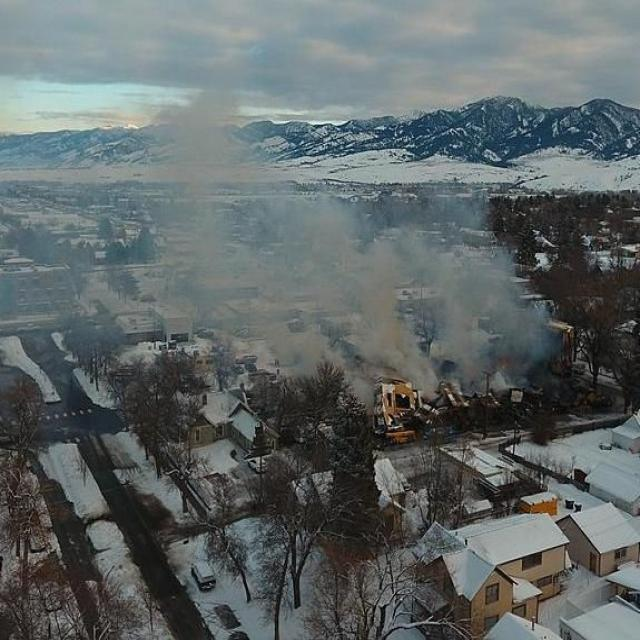Smoke: (79, 111, 542, 390)
